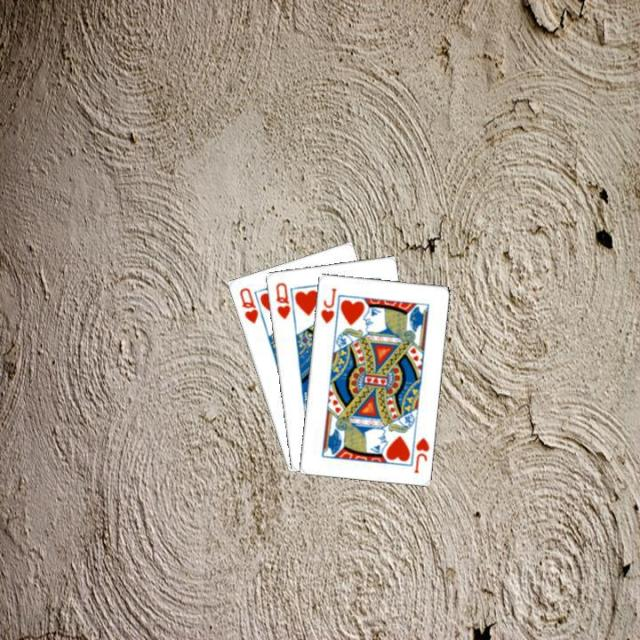JH: (316, 284, 338, 324), (410, 434, 431, 474)
QH: (234, 284, 260, 326), (271, 278, 292, 321)
